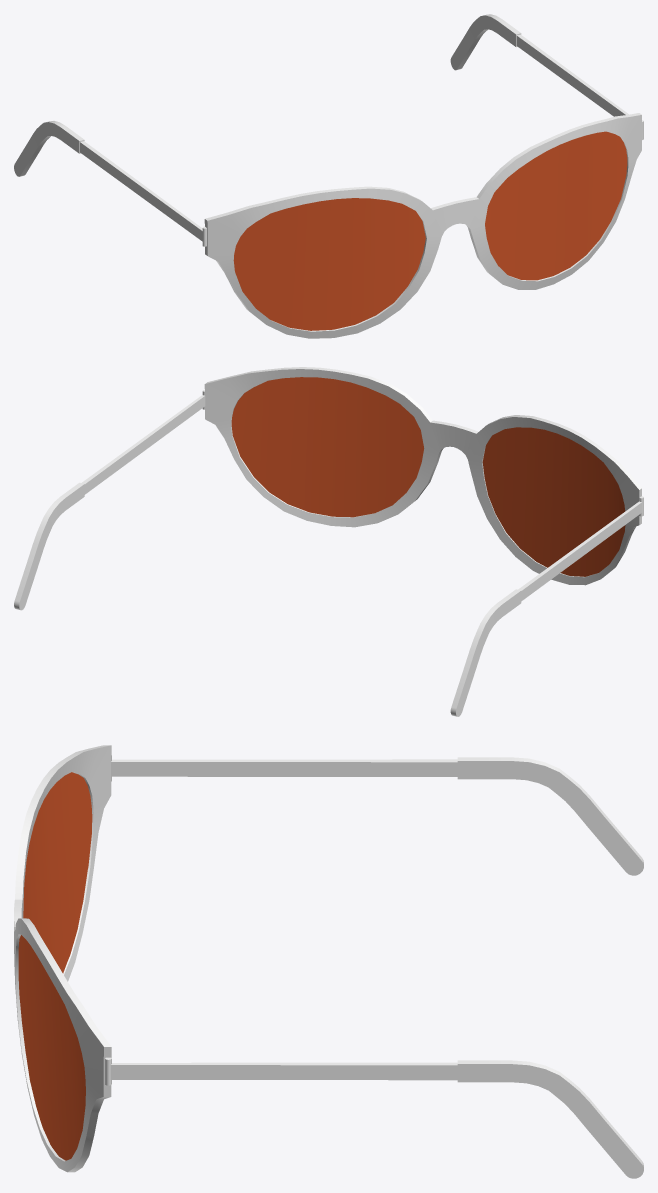
The model's file is glasses-24.glb.
3 renders of one model, top to bottom at view 1: azimuth 30°, elevation 25°; view 2: azimuth 150°, elevation 25°; view 3: azimuth 270°, elevation 25°, orthographic. The views are drawn at different scales.
Parts seen in each view (by area): view 1: glasses15.001; view 2: glasses15.001; view 3: glasses15.001.
Boxes of the visible parts, x1,y1,x2,y2 form: glasses15.001: (14, 14, 643, 338); glasses15.001: (14, 367, 643, 716); glasses15.001: (14, 745, 643, 1178).
Bounding box in the file's own units: 2.18 × 0.7101 × 1.89.
